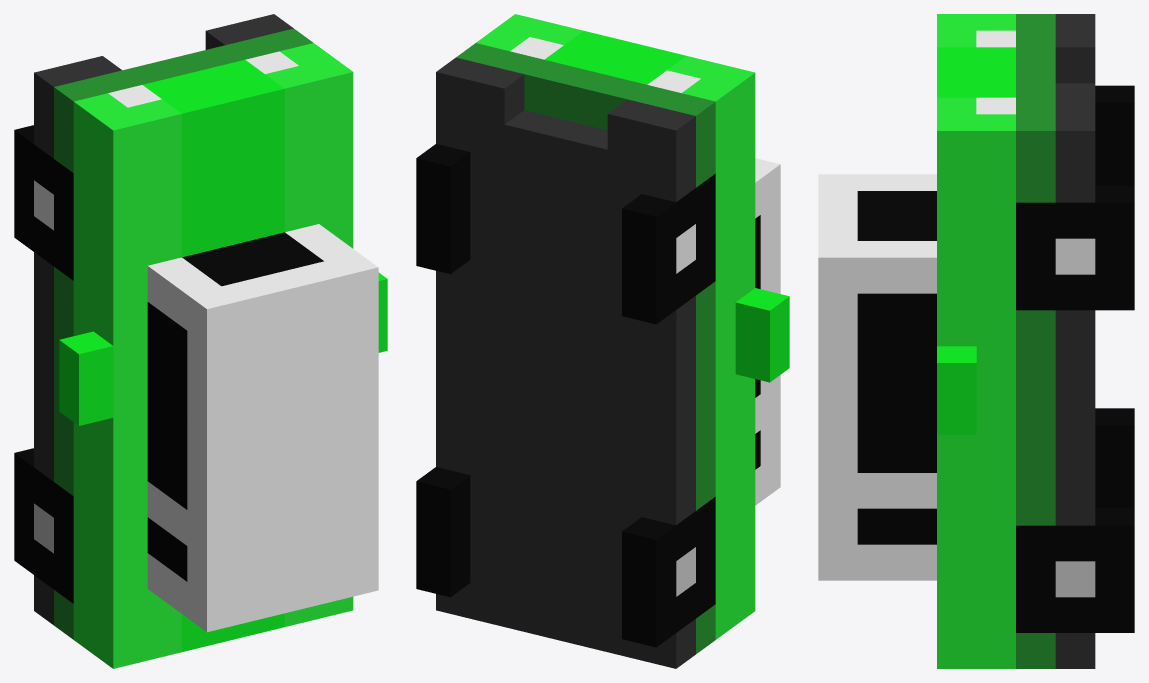
File: VoxelCarD.obj
The picture shows the model from 3 angles, left to right: view 1: azimuth 30°, elevation 25°; view 2: azimuth 150°, elevation 25°; view 3: azimuth 270°, elevation 25°; orthographic projection.
Visible parts, largest first — view 1: VoxelCar_D; view 2: VoxelCar_D; view 3: VoxelCar_D.
Part boxes in pixels (x1,y1,x2,y2): VoxelCar_D: (14,14,387,668); VoxelCar_D: (416,14,789,668); VoxelCar_D: (818,14,1134,668).
Size of the model in its own units: 1.18 by 1.96 by 1.05.
